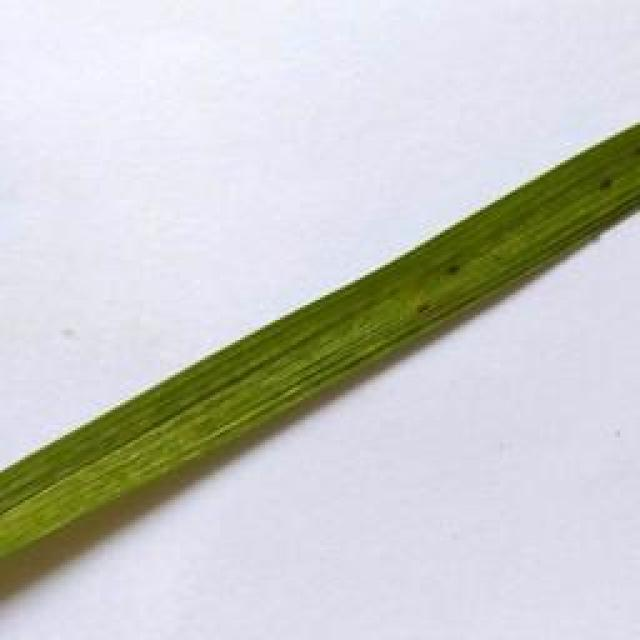Brown_Spot: (583, 173, 629, 195), (410, 303, 440, 323), (444, 265, 467, 286), (633, 150, 640, 154)
